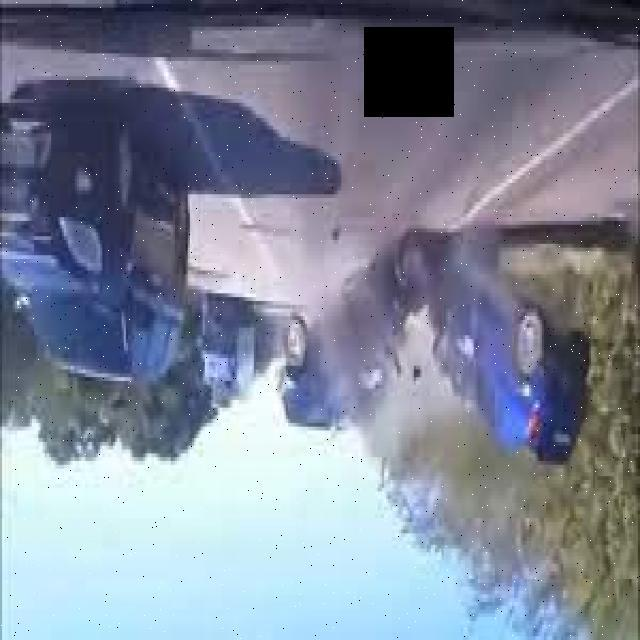severe: (271, 227, 593, 482)
